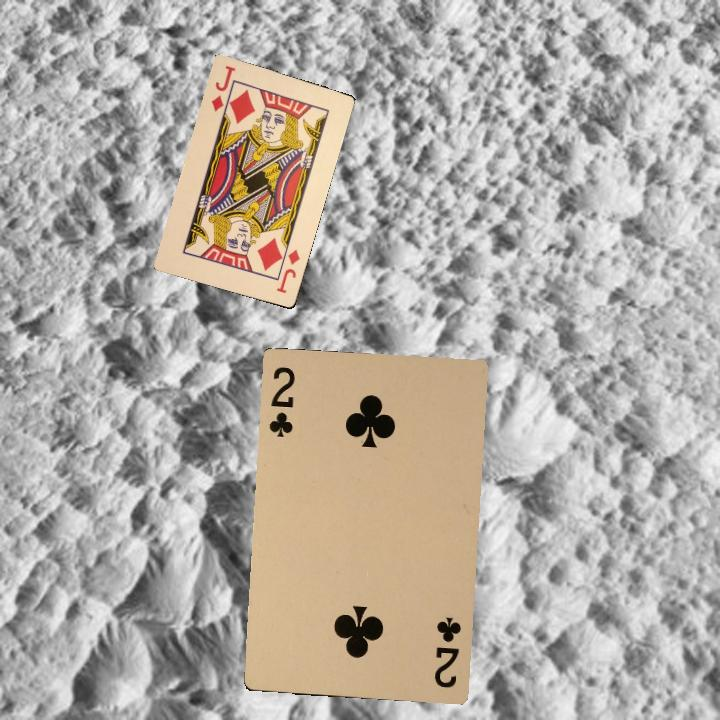2c: (430, 613, 464, 691), (264, 362, 298, 439)
Jd: (207, 61, 238, 119), (272, 245, 302, 296)
